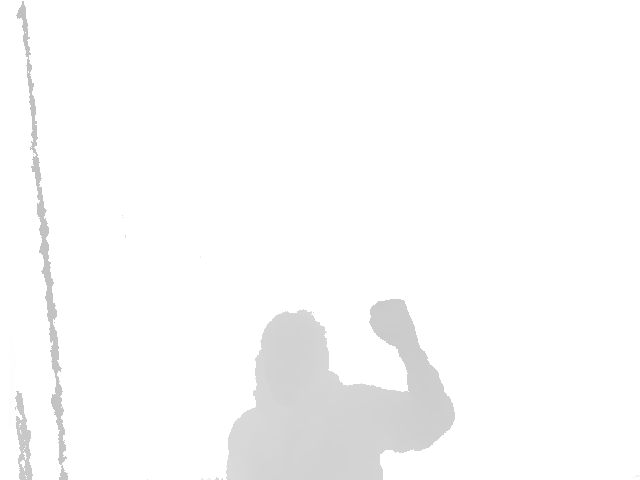hand: (369, 299, 417, 343)
head: (253, 309, 330, 406)
person: (225, 299, 456, 480)
